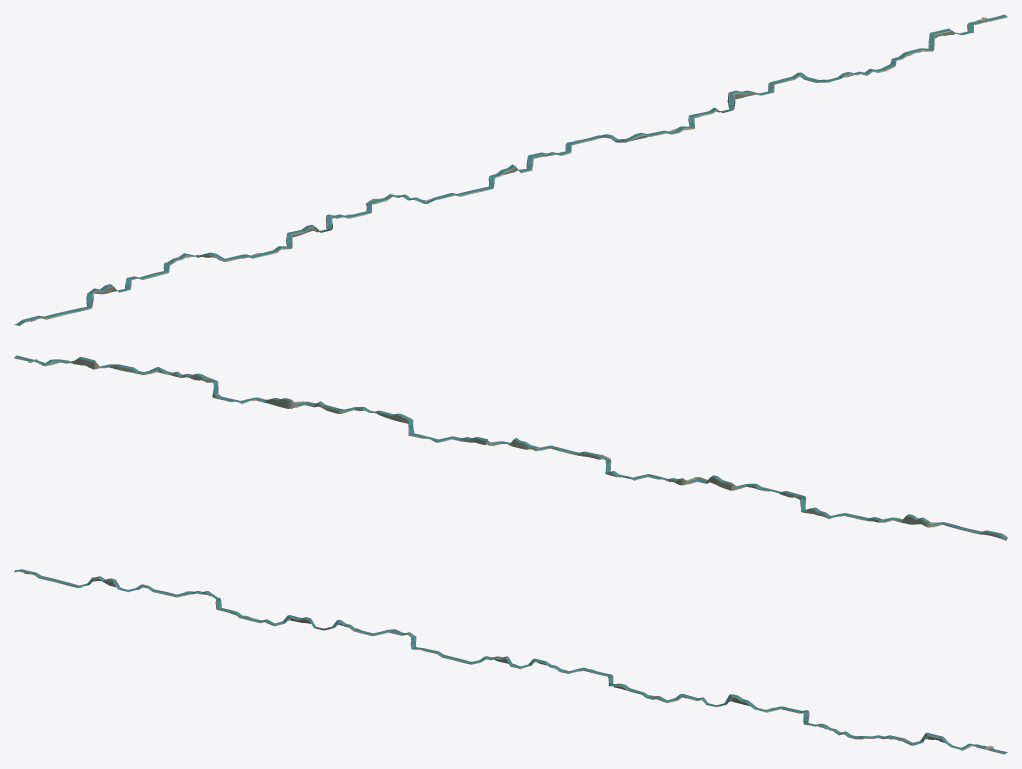
File: river.glb
3 renders of one model, top to bottom at view 1: azimuth 30°, elevation 25°; view 2: azimuth 150°, elevation 25°; view 3: azimuth 330°, elevation 25°, orthographic. The views are drawn at different scales.
Size of the model in its own units: 355 by 2.94 by 43.9.
